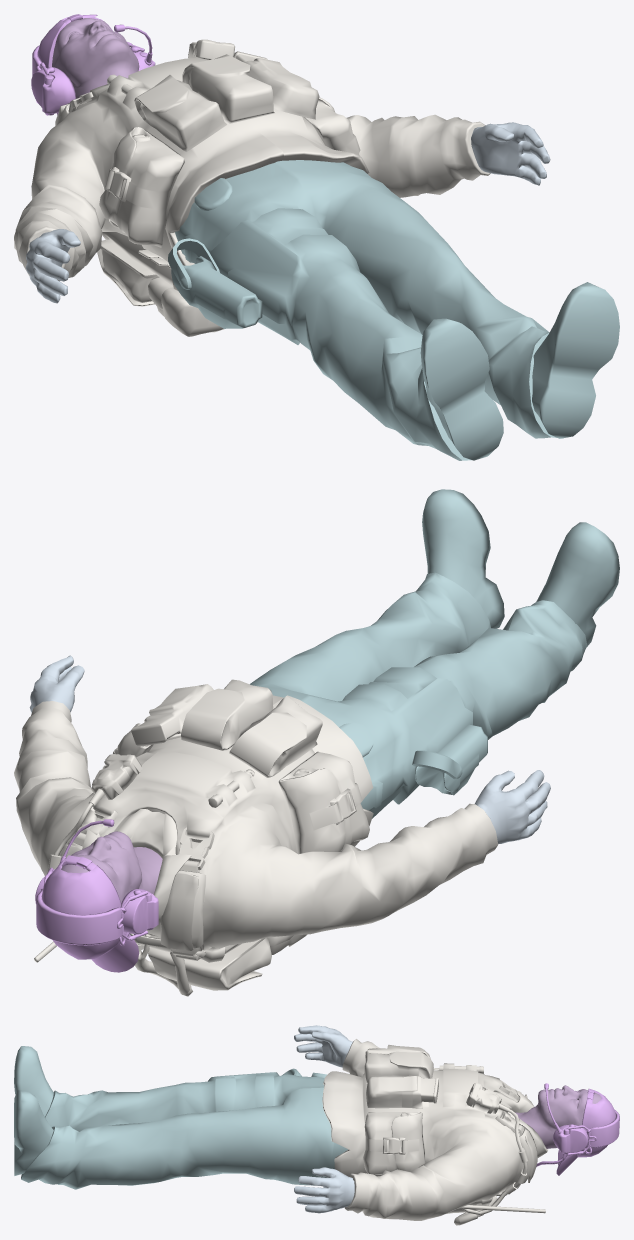
File: untycsgo.fbx
3 renders of one model, top to bottom at view 1: azimuth 30°, elevation 25°; view 2: azimuth 150°, elevation 25°; view 3: azimuth 270°, elevation 25°, orthographic. The views are drawn at different scales.
Visible parts, largest first — view 1: ctm_fbi, w_ct_base_glove; view 2: ctm_fbi, w_ct_base_glove; view 3: ctm_fbi, w_ct_base_glove.
Boxes of the visible parts, x1,y1,x2,y2 form: ctm_fbi: (14,14,619,460); w_ct_base_glove: (25,122,550,303); ctm_fbi: (14,489,619,996); w_ct_base_glove: (29,655,550,843); ctm_fbi: (14,1039,619,1225); w_ct_base_glove: (294,1025,354,1213).
Size of the model in its own units: 4856 by 2400 by 7836.
